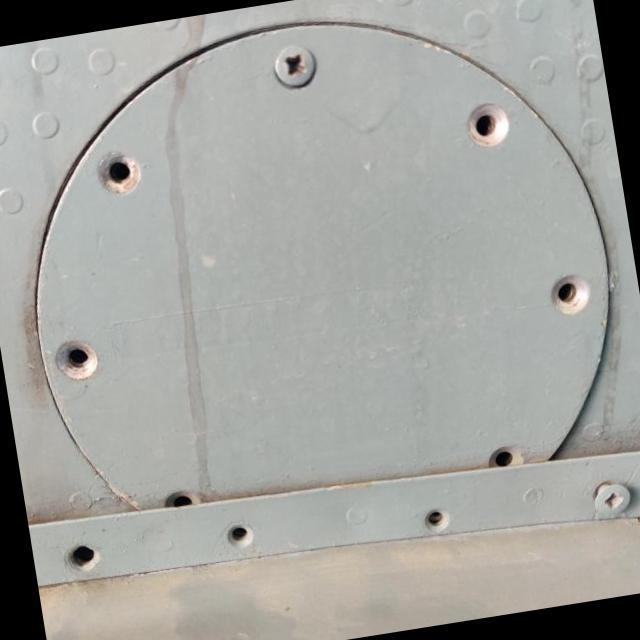Fastener Damage: (60, 110, 179, 236), (17, 304, 124, 422), (433, 73, 544, 181), (514, 236, 622, 347), (454, 404, 564, 508), (36, 507, 137, 608), (127, 453, 228, 554), (387, 472, 491, 566), (196, 494, 284, 582)
